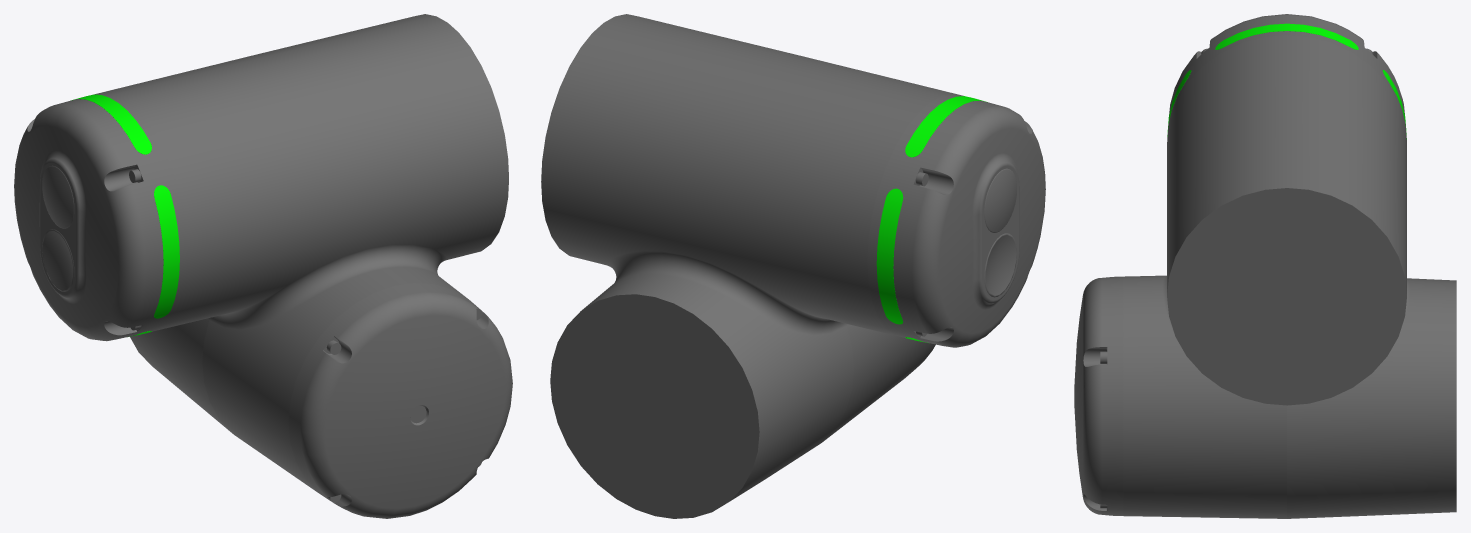
File: CRB15000_5kg-950_OmniCore_rev00_LINK5_CAD.fbx
3 renders of one model, left to right at view 1: azimuth 30°, elevation 25°; view 2: azimuth 150°, elevation 25°; view 3: azimuth 270°, elevation 25°, orthographic. The views are drawn at different scales.
Visible parts, largest first — view 1: Body1; view 2: Body1; view 3: Body1.
Boxes of the visible parts, box(x1,y1,x2,y2) form: Body1: box(14, 14, 512, 518); Body1: box(541, 14, 1045, 518); Body1: box(1074, 14, 1456, 518).
Bounding box in the file's own units: 196 × 187 × 168.
